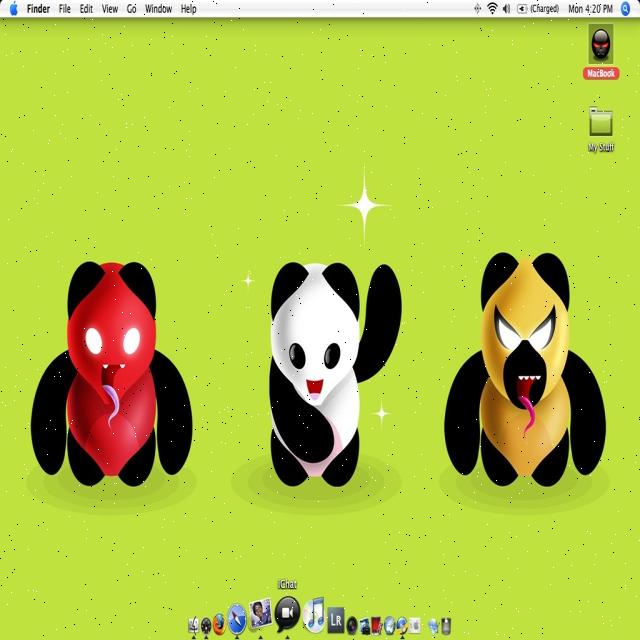panda: (268, 258, 402, 485)
